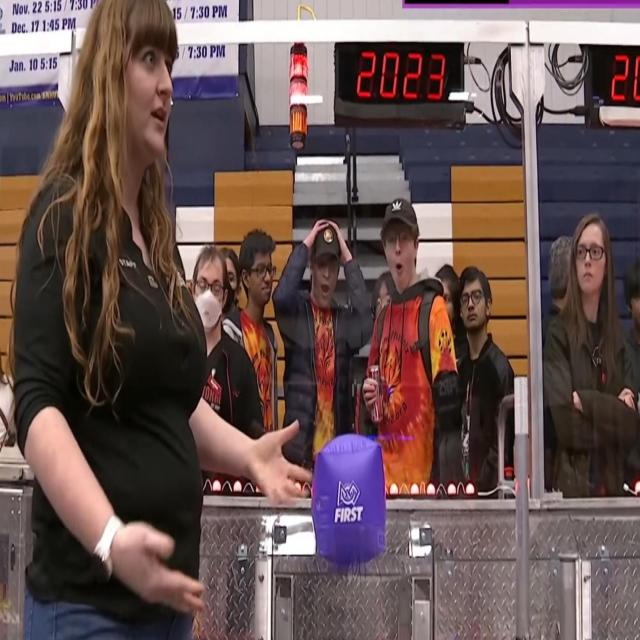frc_cube: (310, 432, 384, 565)
